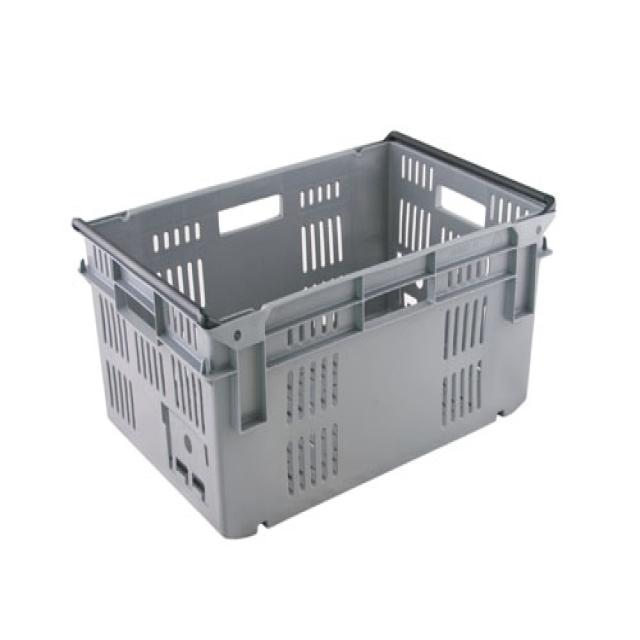basket: (59, 98, 616, 562)
